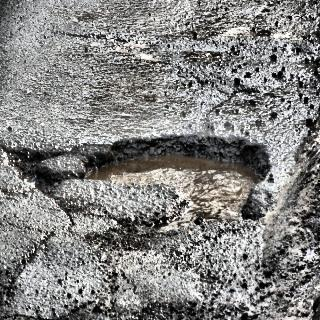pothole: (9, 105, 291, 243)
